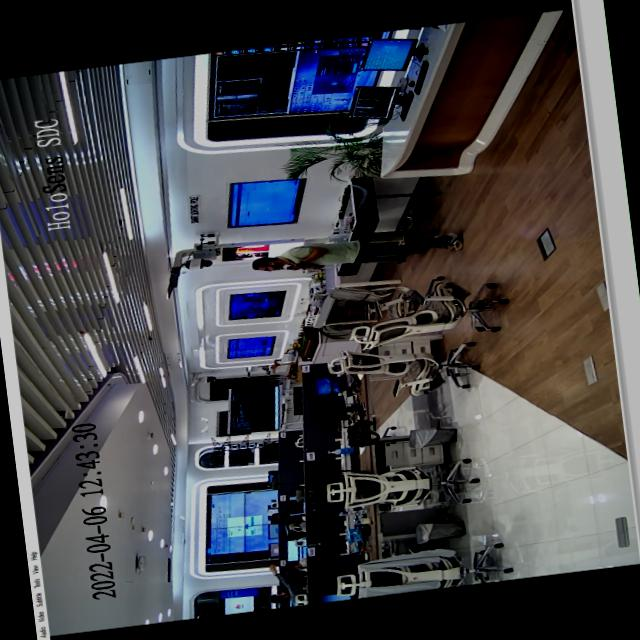long weapon: (276, 260, 312, 272)
